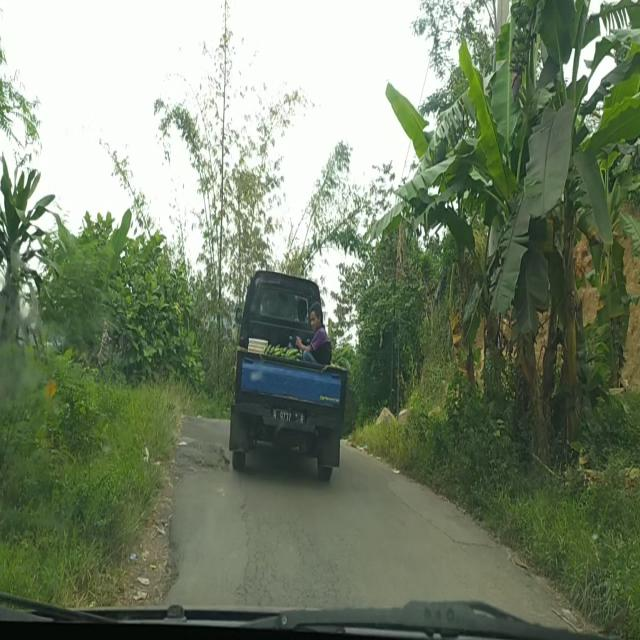Drain Hole: (245, 511, 337, 605)
